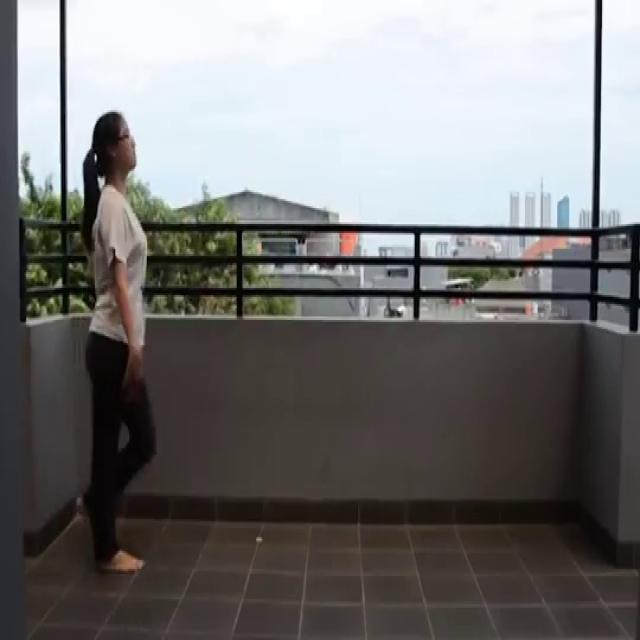normal: (63, 105, 167, 585)
